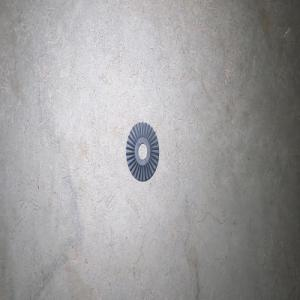Washer: (125, 121, 159, 181)
